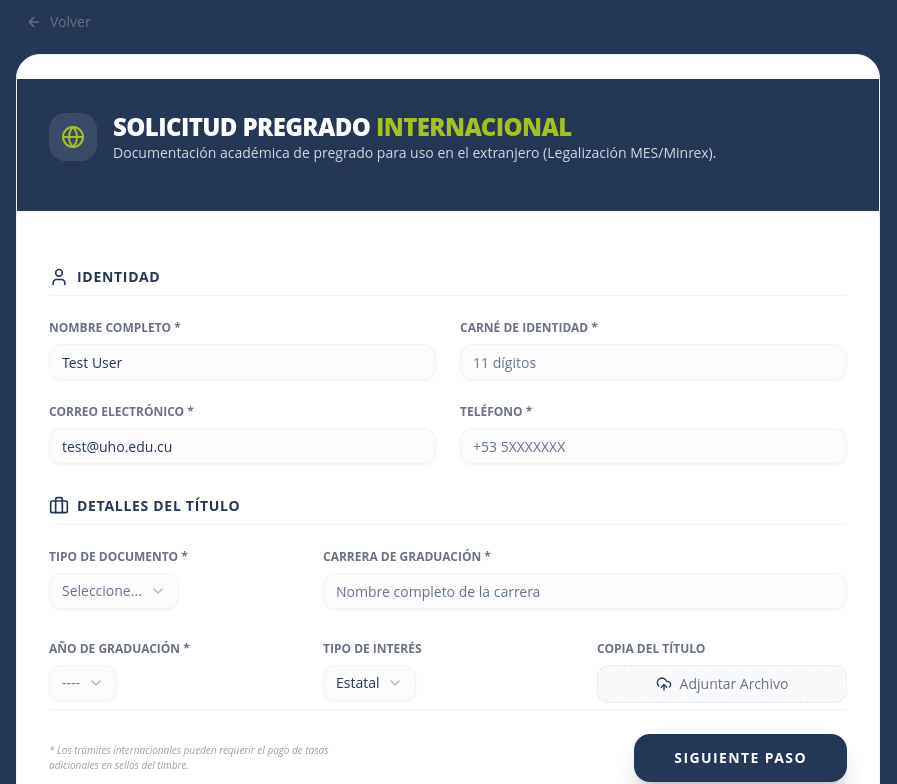
UnderInterProcedure validación común › exige carrera/programa
The width and height of the screenshot is (897, 784).
In the field labelled "Carné de Identidad *": x=654, y=362 top-left (460, 344), bottom-right (847, 380), type "02050512345"
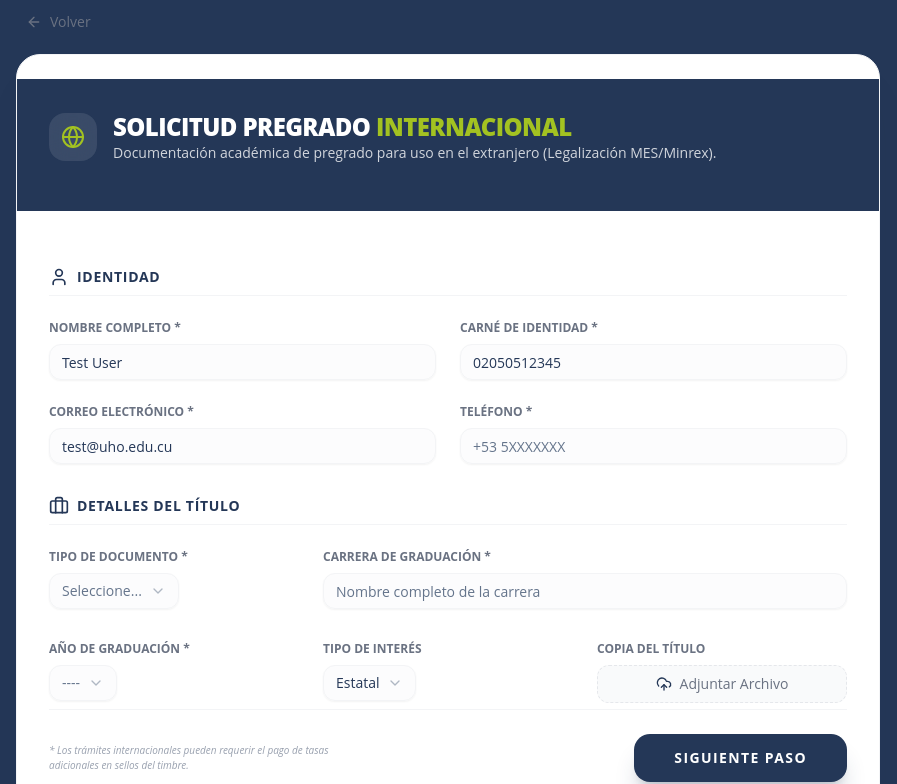
// No tocar el campo de carrera/programa
Click the button "Siguiente Paso": x=741, y=758 top-left (634, 734), bottom-right (847, 782)
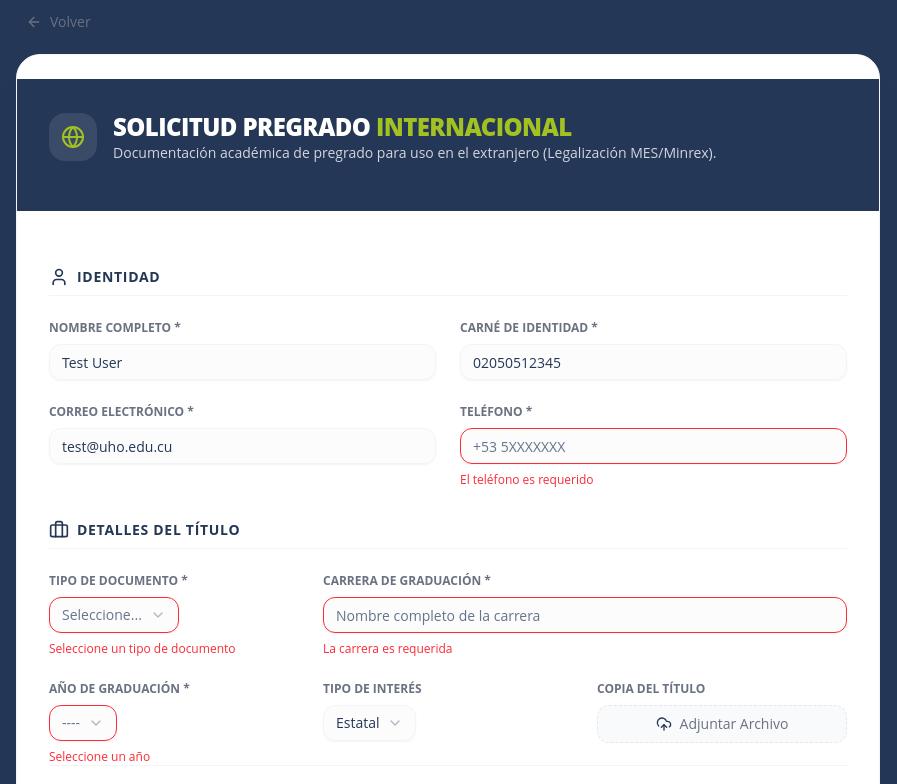
Now the text "La carrera es requerida" is shown, box top-left (323, 640), bottom-right (452, 657)
